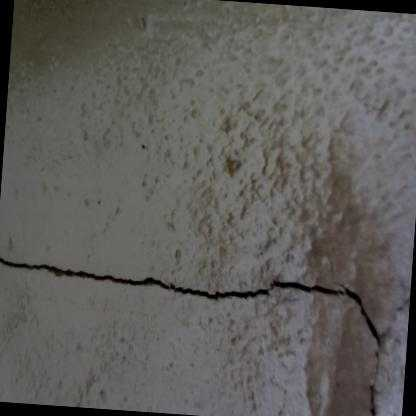crack: (0, 256, 380, 349), (369, 293, 411, 416)
